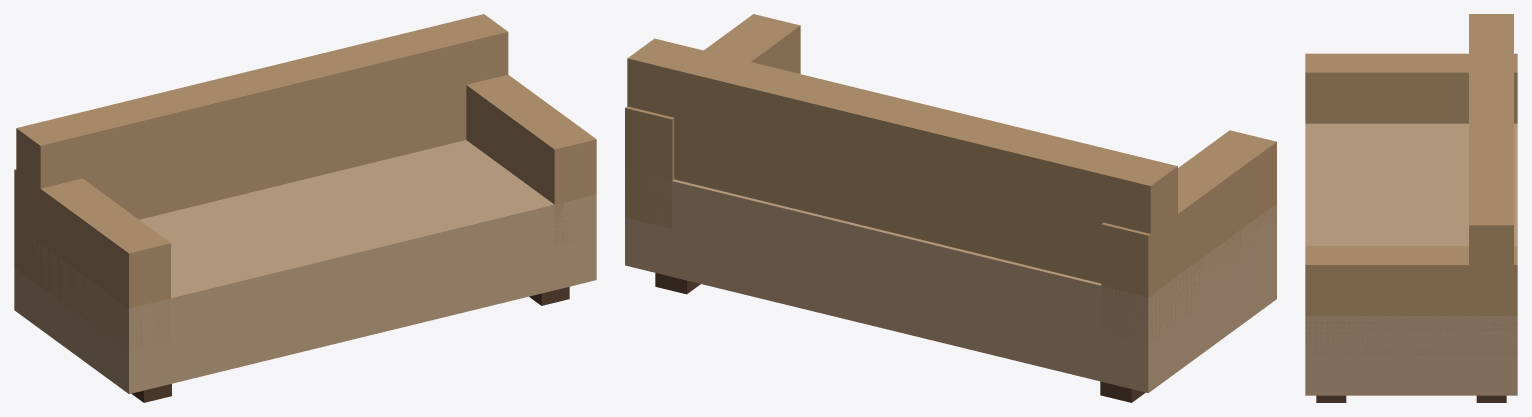
Rendered from sofa.glb.
3 renders of one model, left to right at view 1: azimuth 30°, elevation 25°; view 2: azimuth 150°, elevation 25°; view 3: azimuth 270°, elevation 25°, orthographic. The views are drawn at different scales.
Bounding box in the file's own units: 2 × 0.825 × 0.85.
